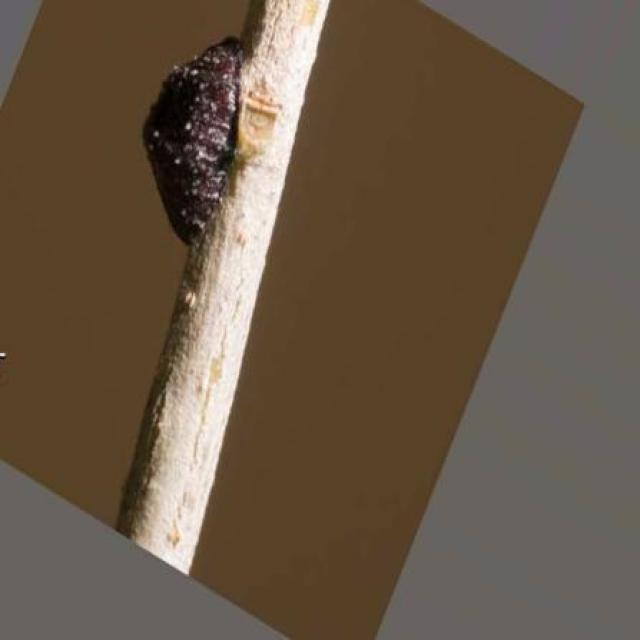BlackScale: (143, 36, 242, 248)
